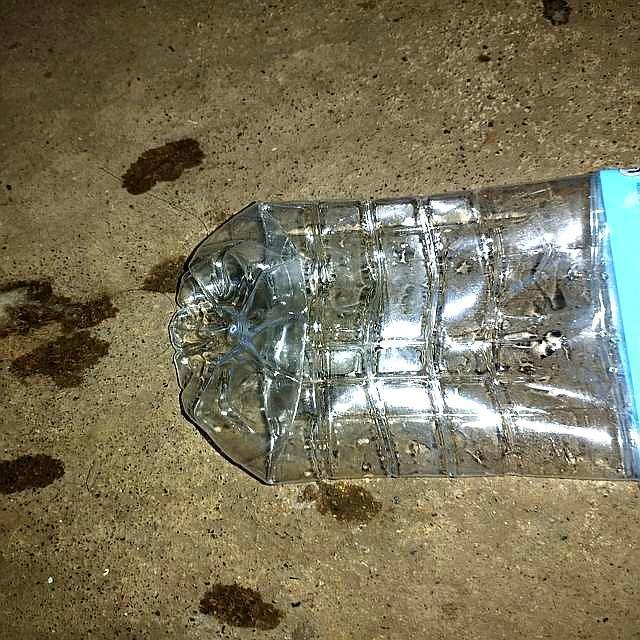Non-biodegradable: (168, 167, 638, 487)
